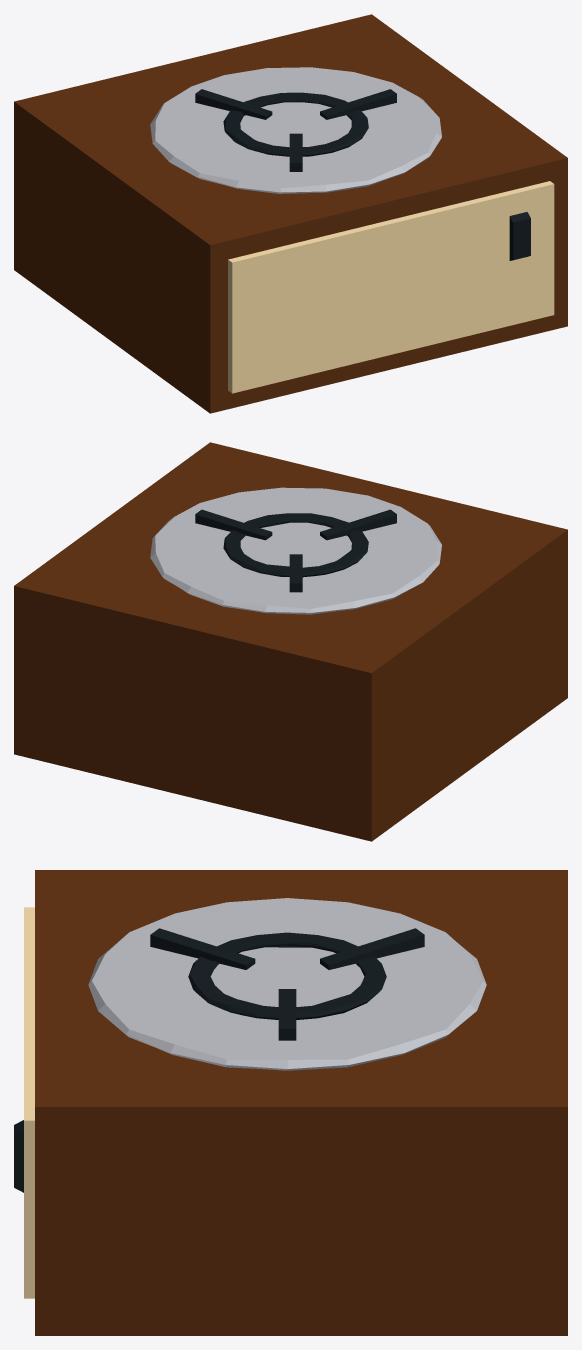
File: StoveStation.fbx
3 views of the same model, one above another, from view 1: azimuth 30°, elevation 25°; view 2: azimuth 150°, elevation 25°; view 3: azimuth 270°, elevation 25° (orthographic). The views are drawn at different scales.
Parts seen in each view (by area): view 1: StoveStation; view 2: StoveStation; view 3: StoveStation.
Part boxes in pixels (x1=…): StoveStation: x1=14, y1=14, x2=567, y2=413; StoveStation: x1=14, y1=442, x2=567, y2=841; StoveStation: x1=14, y1=870, x2=567, y2=1335.
Bounding box in the file's own units: 200 × 99.75 × 198.
